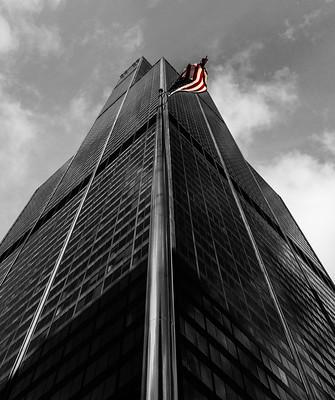building: (4, 54, 335, 400)
